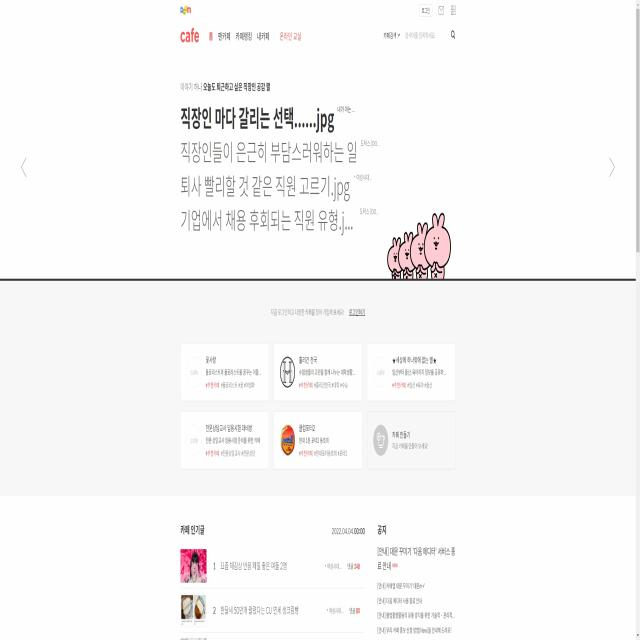menu-bar: (417, 2, 458, 20)
search: (404, 28, 456, 43)
tab-bar: (177, 27, 309, 50)
